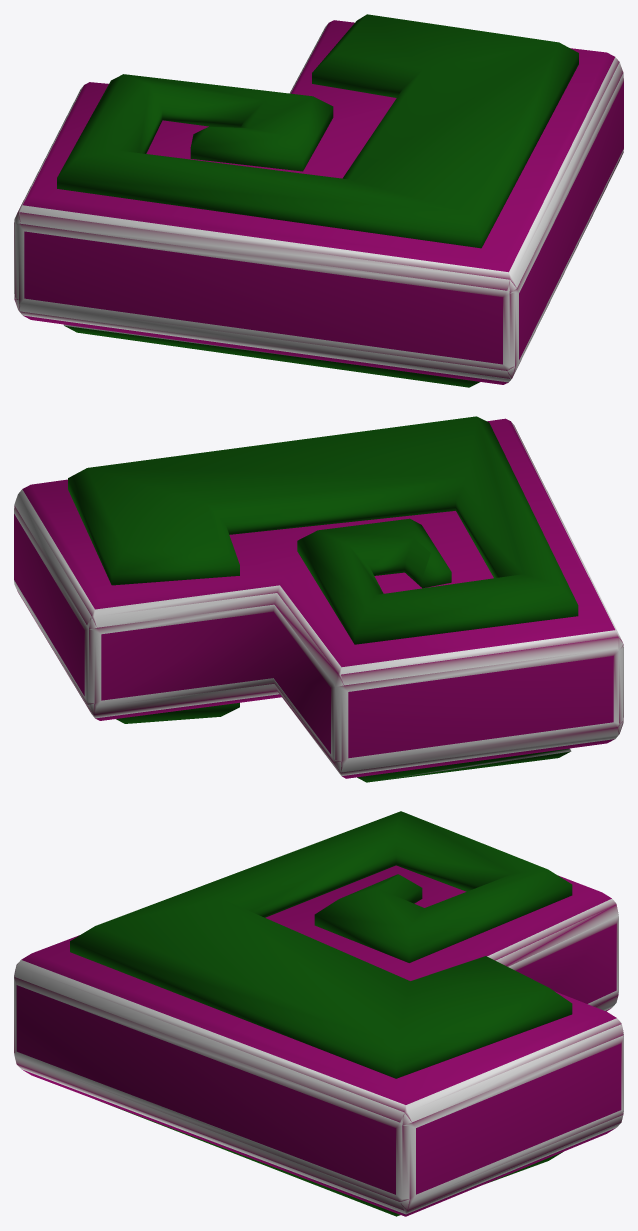
File: HeartSmooth.fbx
3 renders of one model, top to bottom at view 1: azimuth 30°, elevation 25°; view 2: azimuth 150°, elevation 25°; view 3: azimuth 270°, elevation 25°, orthographic.
Visible parts, largest first — view 1: Plane001.001; view 2: Plane001.001; view 3: Plane001.001.
Boxes of the visible parts, x1,y1,x2,y2 form: Plane001.001: (14,14,623,387); Plane001.001: (14,416,623,782); Plane001.001: (14,811,623,1216).
Bounding box in the file's own units: 114 × 31.29 × 99.76.
